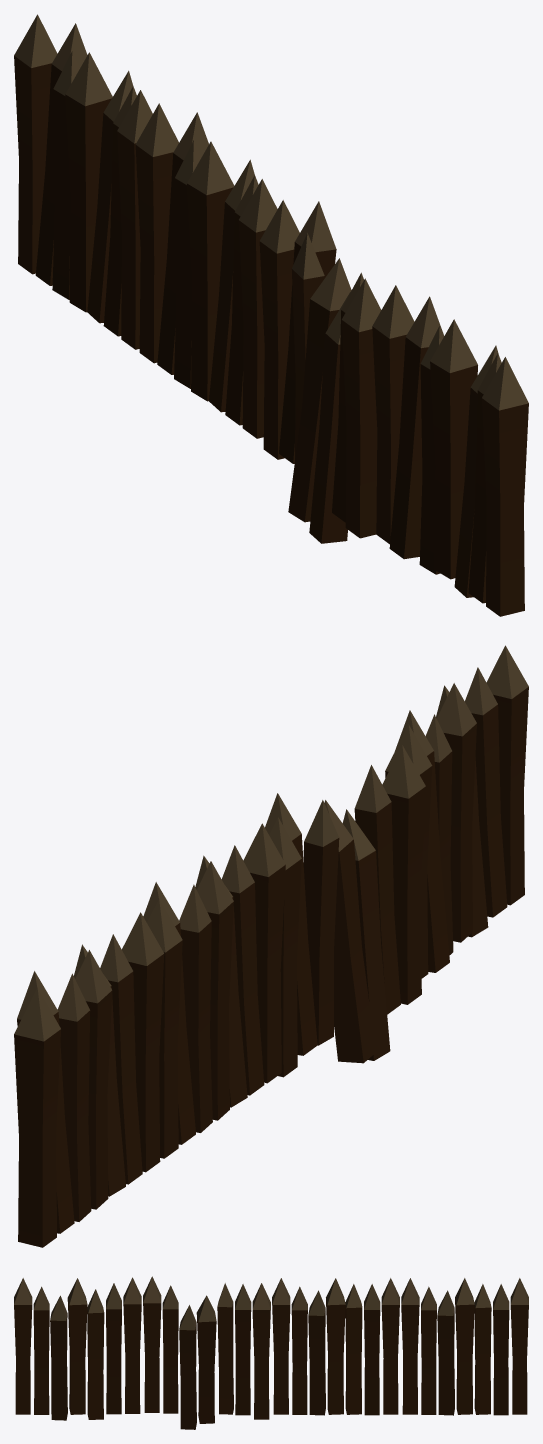
The model's file is WoodFence.fbx.
3 renders of one model, top to bottom at view 1: azimuth 30°, elevation 25°; view 2: azimuth 150°, elevation 25°; view 3: azimuth 270°, elevation 25°, orthographic. The views are drawn at different scales.
Parts seen in each view (by area): view 1: WoodFence; view 2: WoodFence; view 3: WoodFence.
Part boxes in pixels (<box>): WoodFence: <box>14,14,528,616</box>; WoodFence: <box>14,645,528,1247</box>; WoodFence: <box>14,1276,528,1429</box>.
Bounding box in the file's own units: 44.45 × 174 × 528.
